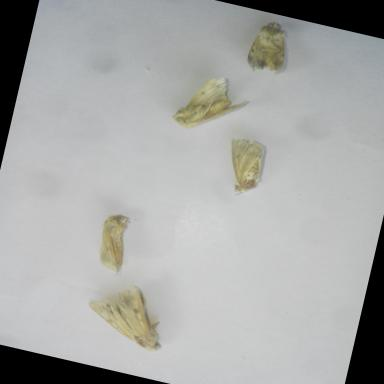abw: (76, 272, 176, 358), (168, 63, 258, 144), (212, 129, 272, 204), (84, 206, 142, 281), (240, 14, 300, 82)
